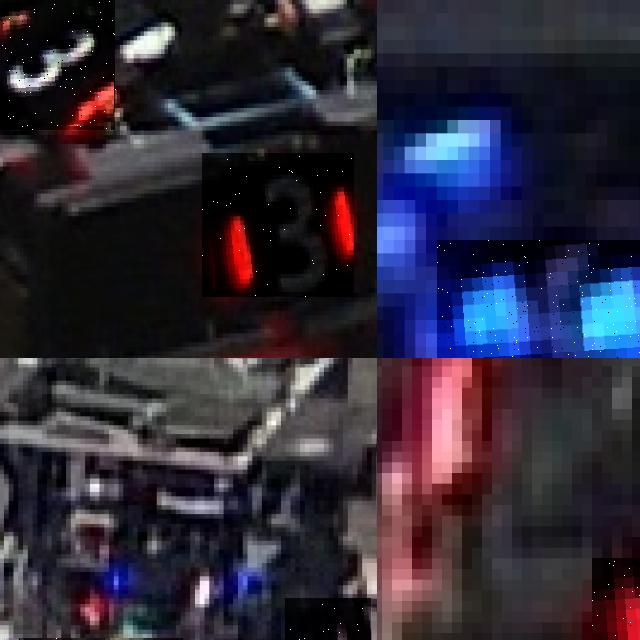B1: (285, 598, 371, 640)
B4: (436, 240, 640, 358)
R3: (202, 153, 354, 297), (0, 0, 116, 130)
